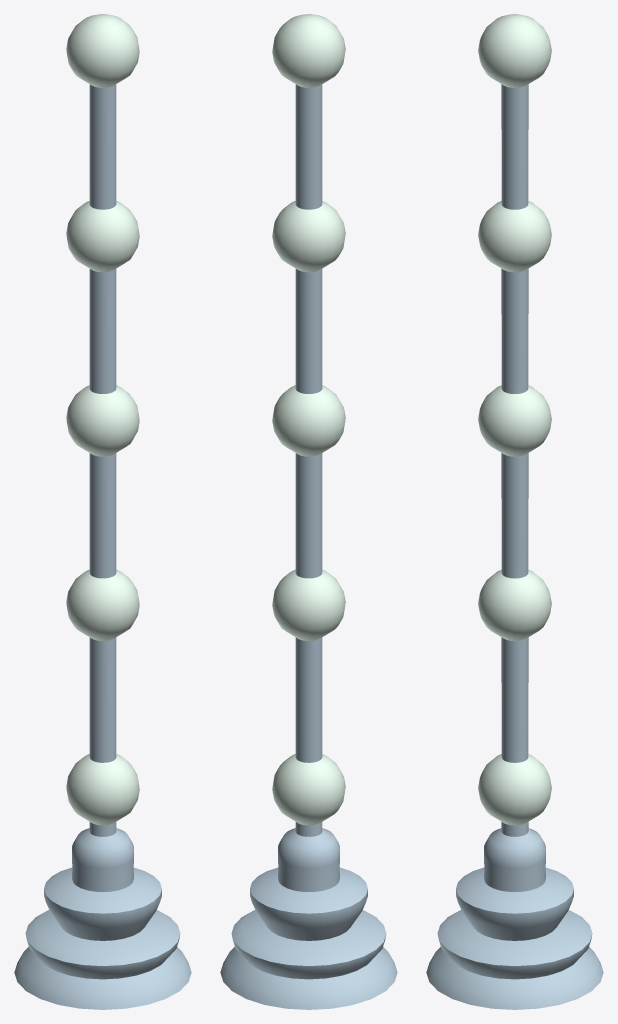
File: streetlight_26.fbx
3 renders of one model, left to right at view 1: azimuth 30°, elevation 25°; view 2: azimuth 150°, elevation 25°; view 3: azimuth 270°, elevation 25°, orthographic.
Parts seen in each view (by area): view 1: streetlight_26, pSphere34, pSphere31, pSphere32, pSphere33, pSphere30; view 2: streetlight_26, pSphere34, pSphere31, pSphere32, pSphere33, pSphere30; view 3: streetlight_26, pSphere34, pSphere32, pSphere31, pSphere33, pSphere30.
Part boxes in pixels (x1=…): streetlight_26: x1=14, y1=828, x2=191, y2=1009; pSphere34: x1=66, y1=14, x2=139, y2=209; pSphere31: x1=66, y1=569, x2=139, y2=762; pSphere32: x1=66, y1=385, x2=139, y2=578; pSphere33: x1=66, y1=201, x2=139, y2=393; pSphere30: x1=66, y1=754, x2=139, y2=836; streetlight_26: x1=220, y1=828, x2=397, y2=1009; pSphere34: x1=272, y1=14, x2=345, y2=209; pSphere31: x1=272, y1=569, x2=345, y2=762; pSphere32: x1=272, y1=385, x2=345, y2=578; pSphere33: x1=272, y1=201, x2=345, y2=393; pSphere30: x1=272, y1=754, x2=345, y2=836; streetlight_26: x1=426, y1=828, x2=603, y2=1009; pSphere34: x1=478, y1=14, x2=551, y2=209; pSphere32: x1=478, y1=385, x2=551, y2=578; pSphere31: x1=478, y1=569, x2=551, y2=762; pSphere33: x1=478, y1=201, x2=551, y2=393; pSphere30: x1=478, y1=754, x2=551, y2=836.
Size of the model in its own units: 1.15 by 6.82 by 1.15.
